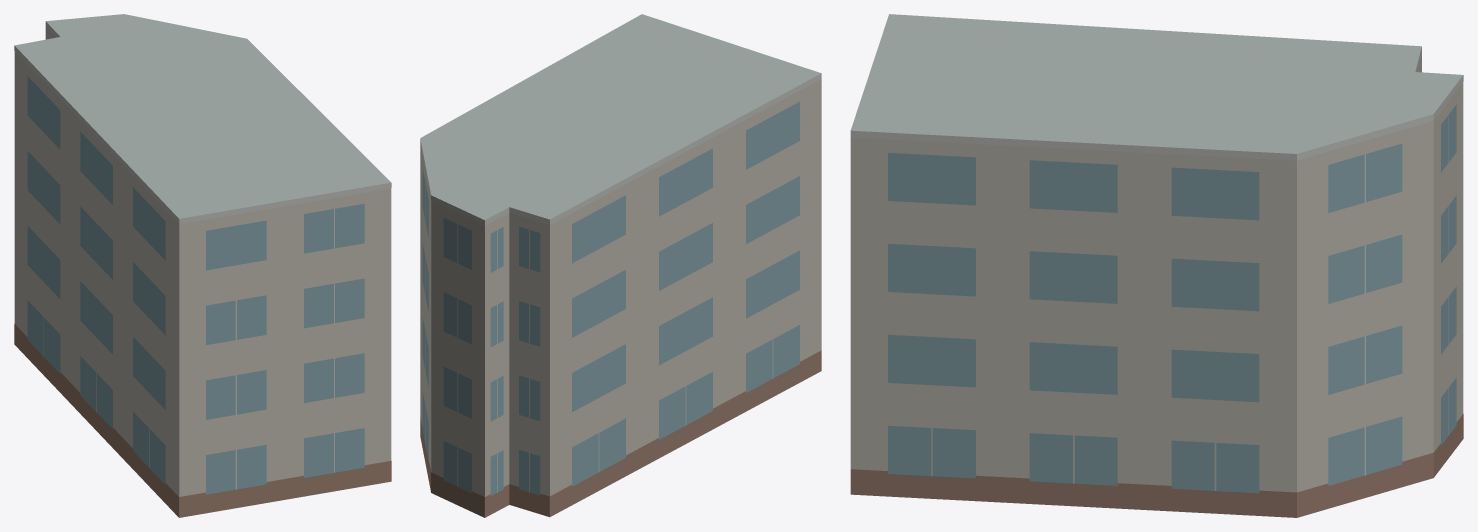
File: survey-upis-32885392.glb
3 views of the same model, side by side, from view 1: azimuth 30°, elevation 25°; view 2: azimuth 150°, elevation 25°; view 3: azimuth 270°, elevation 25° (orthographic). The views are drawn at different scales.
Visible parts, largest first — view 1: survey-upis-32885392.tmp; view 2: survey-upis-32885392.tmp; view 3: survey-upis-32885392.tmp.
Part boxes in pixels (box(x1,y1,x2,y2)): survey-upis-32885392.tmp: box(14, 14, 391, 517); survey-upis-32885392.tmp: box(420, 14, 821, 517); survey-upis-32885392.tmp: box(850, 14, 1463, 517).
Size of the model in its own units: 10.94 by 13.25 by 20.24.
